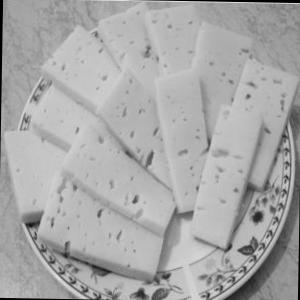cheese: (16, 13, 288, 280)
